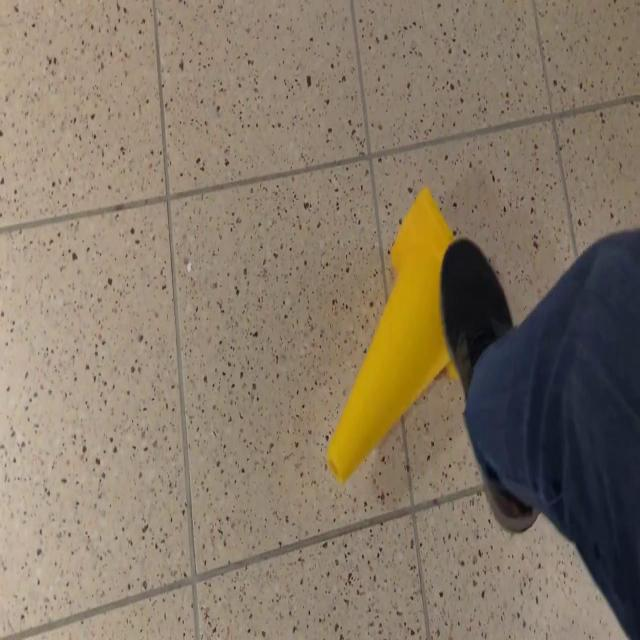frc_cone: (327, 186, 462, 484)
